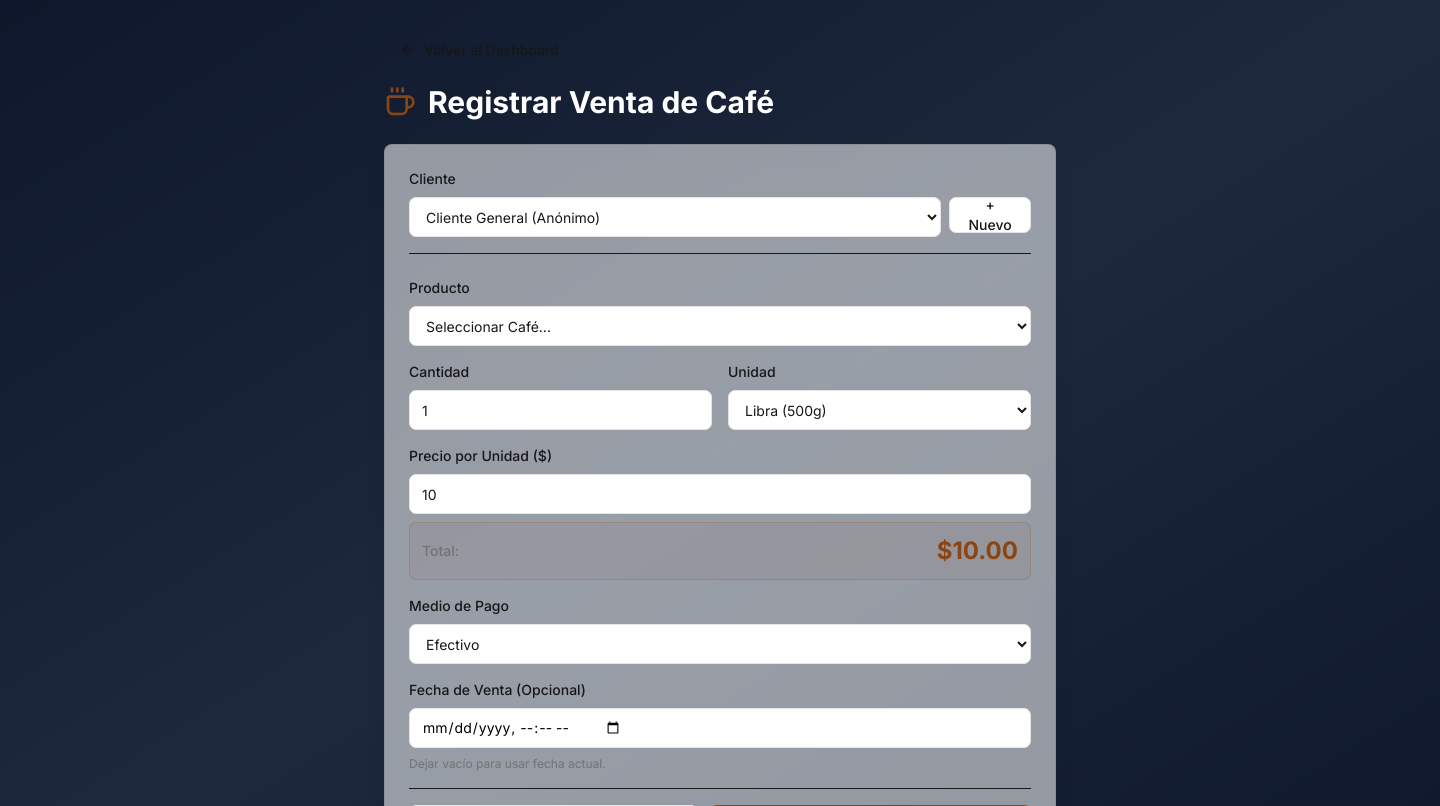
NuevaVentaPage › Quantity and Unit Selection › should update price when unit changes
This screenshot has width=1440, height=806.
Expected: the number field labelled "Precio por Unidad ($)" holds "10", [409,474,1031,514]
Change to media libra
Select "Media Libra (250g)" in the dropdown labelled "Unidad": [880, 410] box [728,390,1031,430]
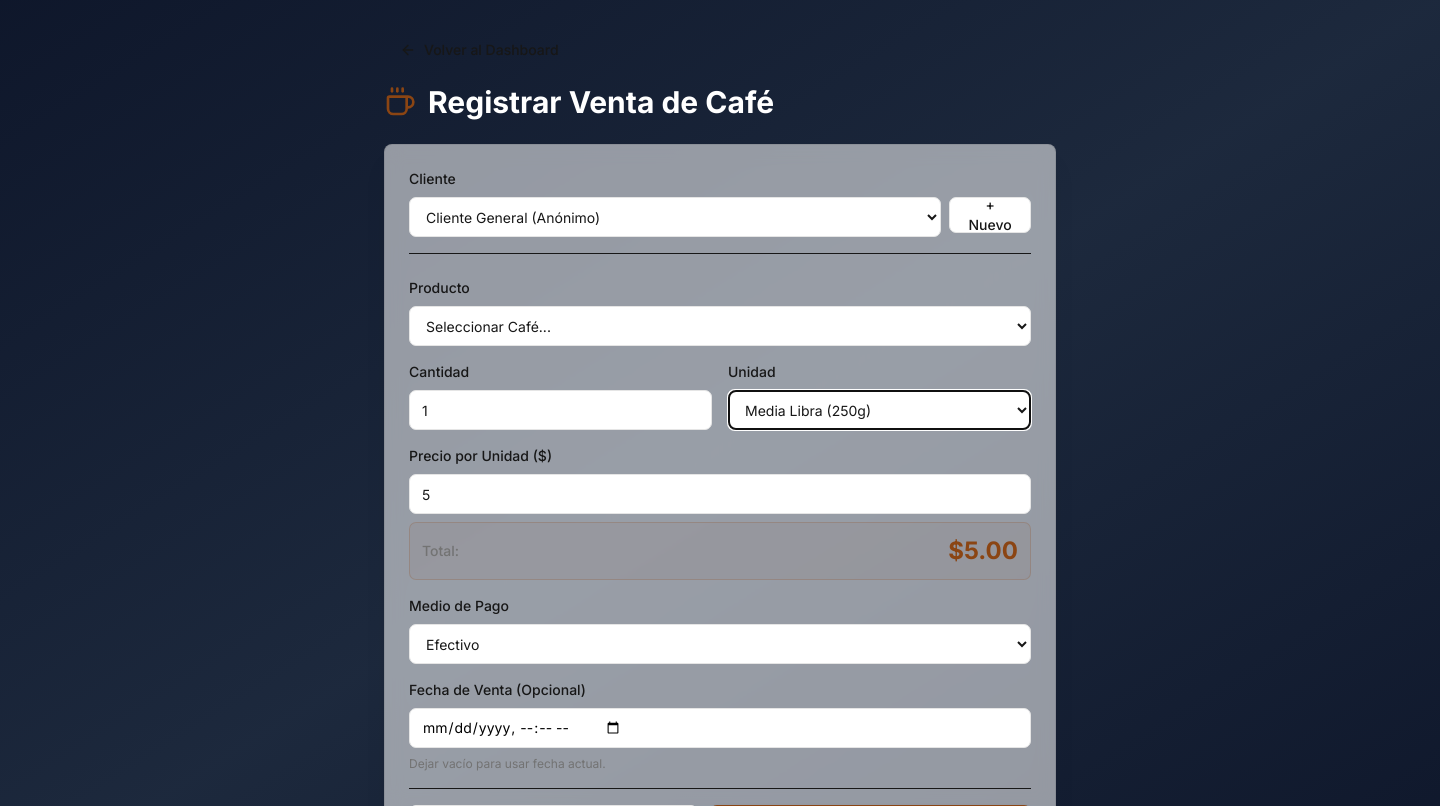
Now the number field labelled "Precio por Unidad ($)" holds "5", box [409,474,1031,514]
